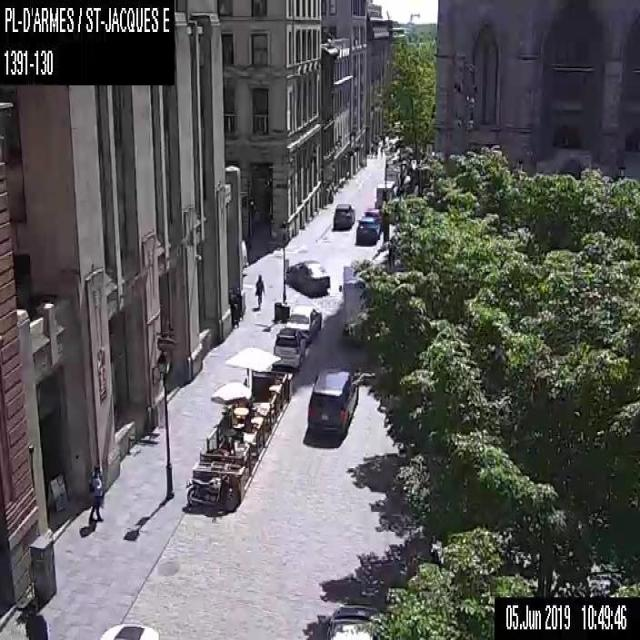pedestrian: (88, 462, 104, 526), (22, 601, 46, 639), (228, 284, 242, 328), (253, 273, 264, 308)
vehicle: (306, 365, 359, 439), (338, 264, 366, 336), (184, 472, 238, 509), (325, 602, 379, 638), (286, 257, 329, 295), (272, 326, 305, 369), (285, 305, 321, 339), (98, 621, 158, 639), (373, 180, 397, 211), (355, 216, 380, 243), (332, 201, 354, 228), (362, 208, 384, 229)
